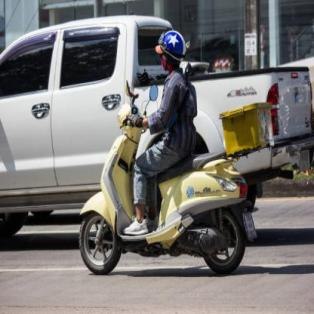Motocicleta: (76, 88, 255, 275)
